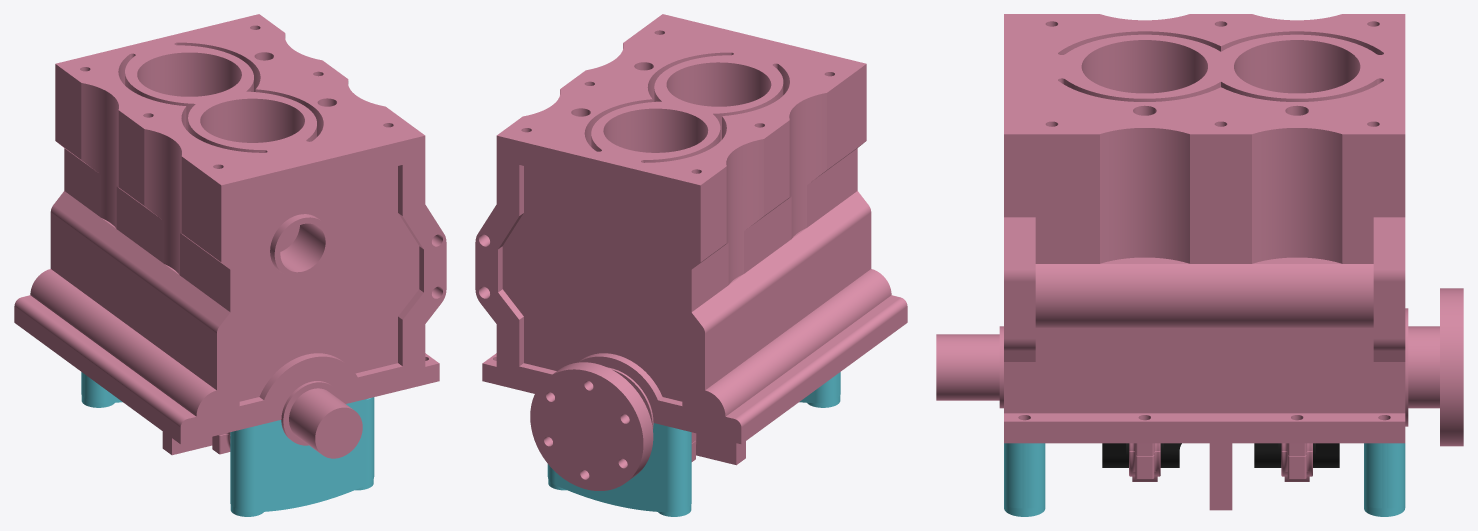
The model's file is index.glb.
3 renders of one model, left to right at view 1: azimuth 30°, elevation 25°; view 2: azimuth 150°, elevation 25°; view 3: azimuth 270°, elevation 25°, orthographic. The views are drawn at different scales.
Parts seen in each view (by area): view 1: SISTEMA - MOTOR2.005, SISTEMA - MOTOR2.014, SISTEMA - MOTOR2.006, SISTEMA - MOTOR2.028, SISTEMA - MOTOR2.015; view 2: SISTEMA - MOTOR2.005, SISTEMA - MOTOR2.006, SISTEMA - MOTOR2.028, SISTEMA - MOTOR2.015, SISTEMA - MOTOR2.014; view 3: SISTEMA - MOTOR2.005, SISTEMA - MOTOR2.006, SISTEMA - MOTOR2.014, SISTEMA - MOTOR2.028, SISTEMA - MOTOR2.015, SISTEMA - MOTOR2, SISTEMA - MOTOR2.016.
Part boxes in pixels (x1,y1,x2,y2): SISTEMA - MOTOR2.005: (14, 14, 446, 444); SISTEMA - MOTOR2.014: (230, 397, 374, 516); SISTEMA - MOTOR2.006: (281, 381, 362, 458); SISTEMA - MOTOR2.028: (81, 372, 122, 407); SISTEMA - MOTOR2.015: (162, 431, 212, 455); SISTEMA - MOTOR2.005: (475, 14, 907, 444); SISTEMA - MOTOR2.006: (530, 362, 653, 490); SISTEMA - MOTOR2.028: (547, 423, 691, 516); SISTEMA - MOTOR2.015: (696, 433, 745, 465); SISTEMA - MOTOR2.014: (799, 372, 840, 407); SISTEMA - MOTOR2.005: (1004, 14, 1405, 443); SISTEMA - MOTOR2.006: (936, 288, 1463, 467); SISTEMA - MOTOR2.014: (1004, 443, 1045, 516); SISTEMA - MOTOR2.028: (1364, 443, 1405, 516); SISTEMA - MOTOR2.015: (1209, 443, 1232, 510); SISTEMA - MOTOR2: (1129, 443, 1160, 481); SISTEMA - MOTOR2.016: (1281, 443, 1312, 481).
Size of the model in its own units: 235 by 288 by 334.
